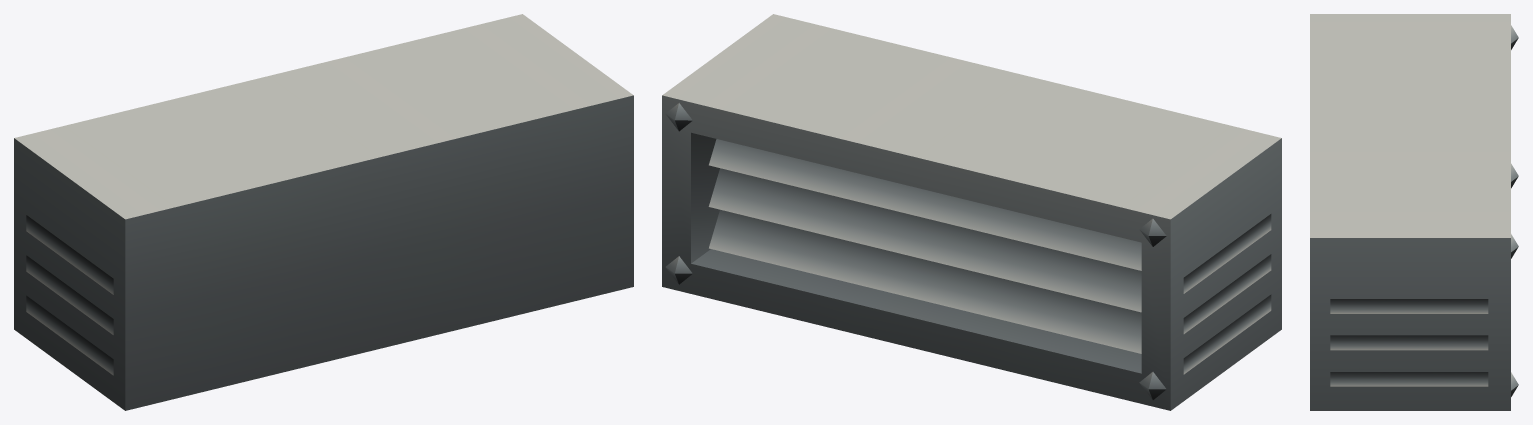
Rendered from Air_Conditioner_3A.fbx.
3 views of the same model, side by side, from view 1: azimuth 30°, elevation 25°; view 2: azimuth 150°, elevation 25°; view 3: azimuth 270°, elevation 25° (orthographic). The views are drawn at different scales.
Parts seen in each view (by area): view 1: Air_Conditioner_3A; view 2: Air_Conditioner_3A; view 3: Air_Conditioner_3A.
Part boxes in pixels (x1,y1,x2,y2): Air_Conditioner_3A: (14, 14, 633, 410); Air_Conditioner_3A: (662, 14, 1281, 410); Air_Conditioner_3A: (1310, 14, 1518, 410).
Size of the model in its own units: 2.64 by 0.95 by 1.04.
